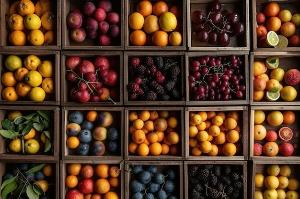grape: (190, 56, 246, 102)
orange: (0, 52, 58, 104), (186, 110, 248, 158), (0, 109, 62, 157), (127, 110, 187, 156), (2, 1, 60, 48), (250, 55, 300, 105), (130, 0, 183, 47), (255, 108, 300, 162), (68, 159, 124, 199), (256, 0, 300, 48), (252, 162, 300, 199)
plum: (64, 0, 126, 46), (189, 0, 248, 46), (64, 111, 122, 155), (127, 164, 181, 199)
